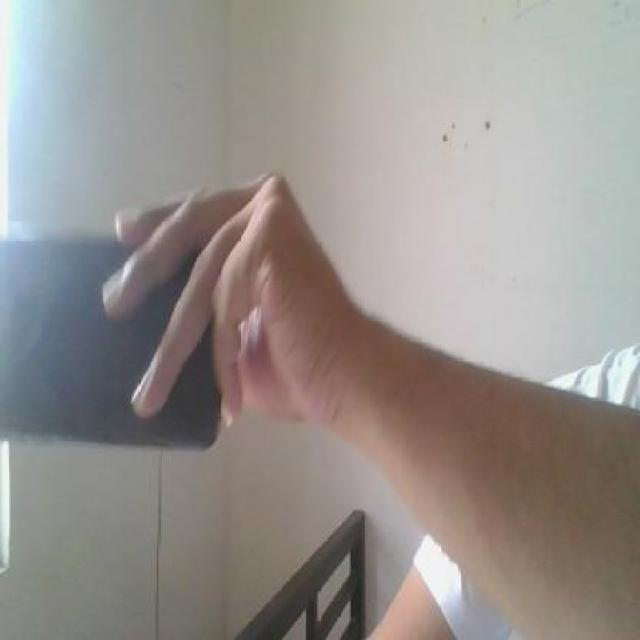Phone: (0, 234, 229, 455)
